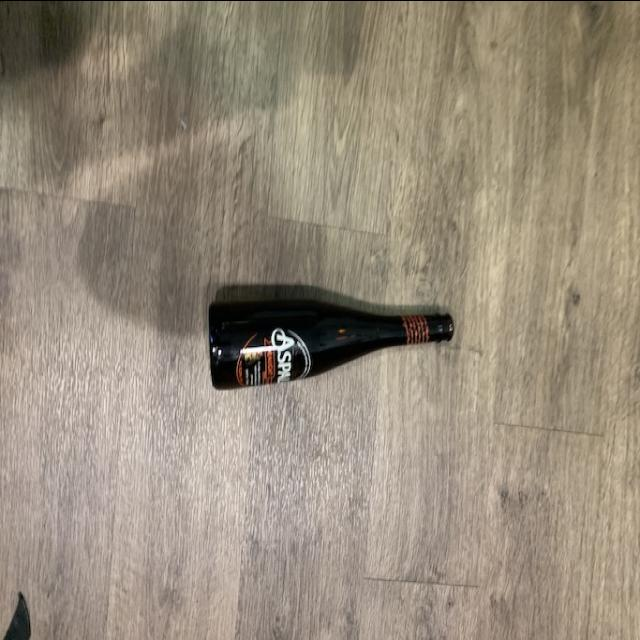Glass Bottle: (208, 290, 461, 391)
